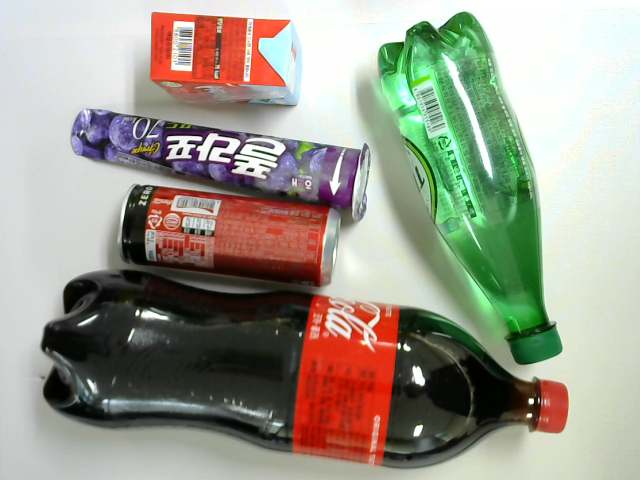Coca_Cola_1.5L: (36, 269, 571, 470)
Coca_Cola_Zero_Can_250ml: (117, 182, 341, 292)
Picnic_Apple: (148, 9, 307, 113)
Polapo_Grape: (60, 109, 374, 221)
Treviraim_500ml: (374, 10, 568, 365)
